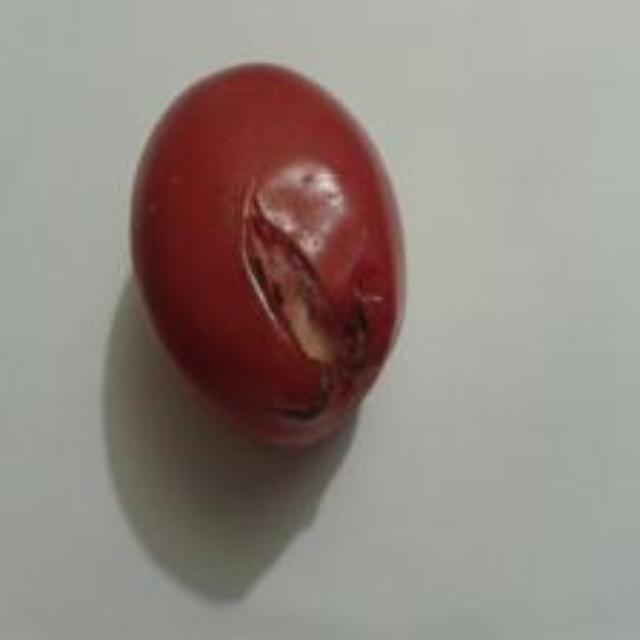defect: (125, 55, 412, 459)
